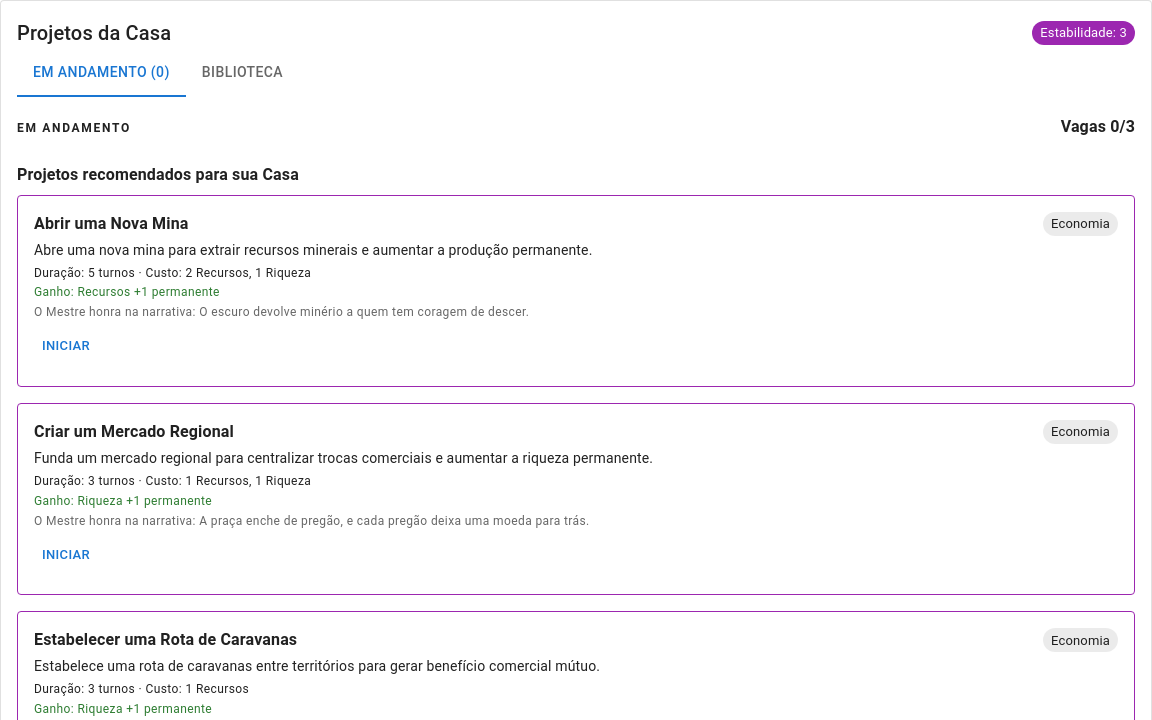
Scenario: HouseProjectsPanel › omite o chip da categoria que a aba já excluiu
Check: the heading "Projetos da Casa" is shown, box [17, 17, 171, 49]
Step 1. Click the tab "Biblioteca" → point(242, 73), box [186, 49, 299, 97]
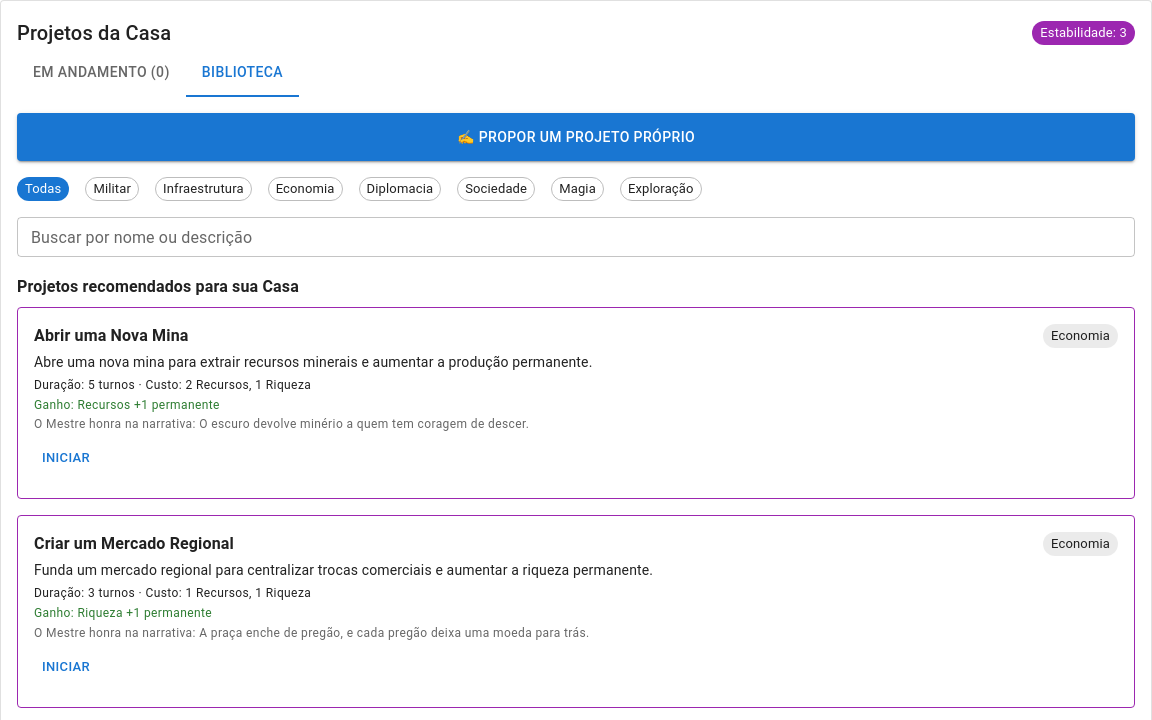
Check: the button "Militar" is shown, box [85, 177, 139, 201]
